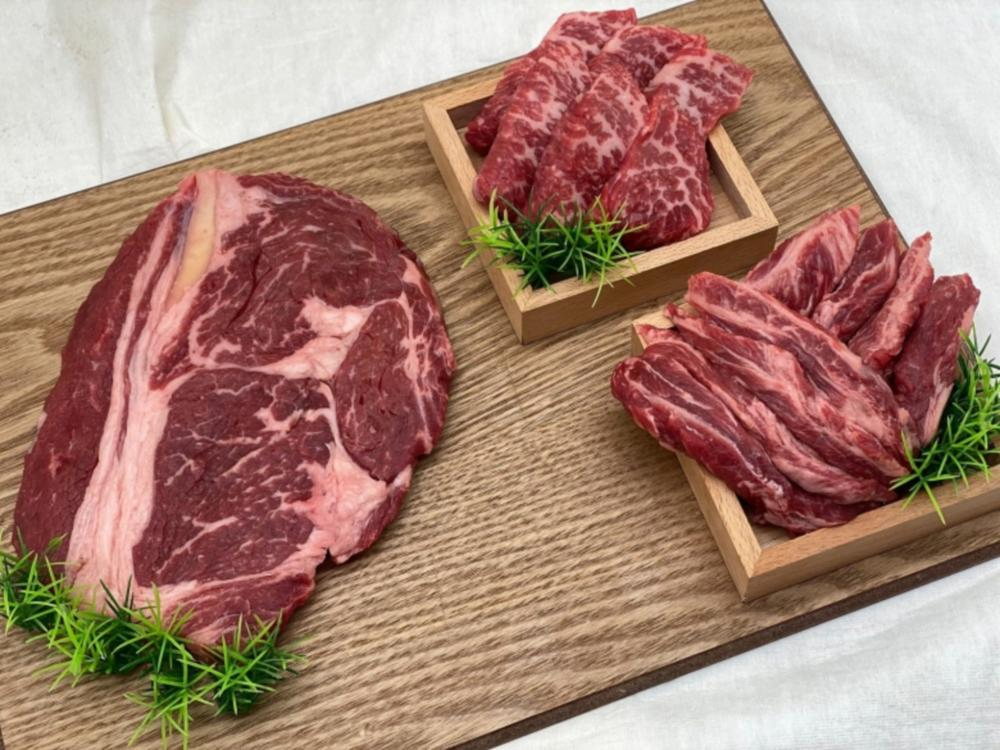beef: (136, 295, 620, 671), (835, 322, 1000, 593), (784, 29, 1000, 224)
